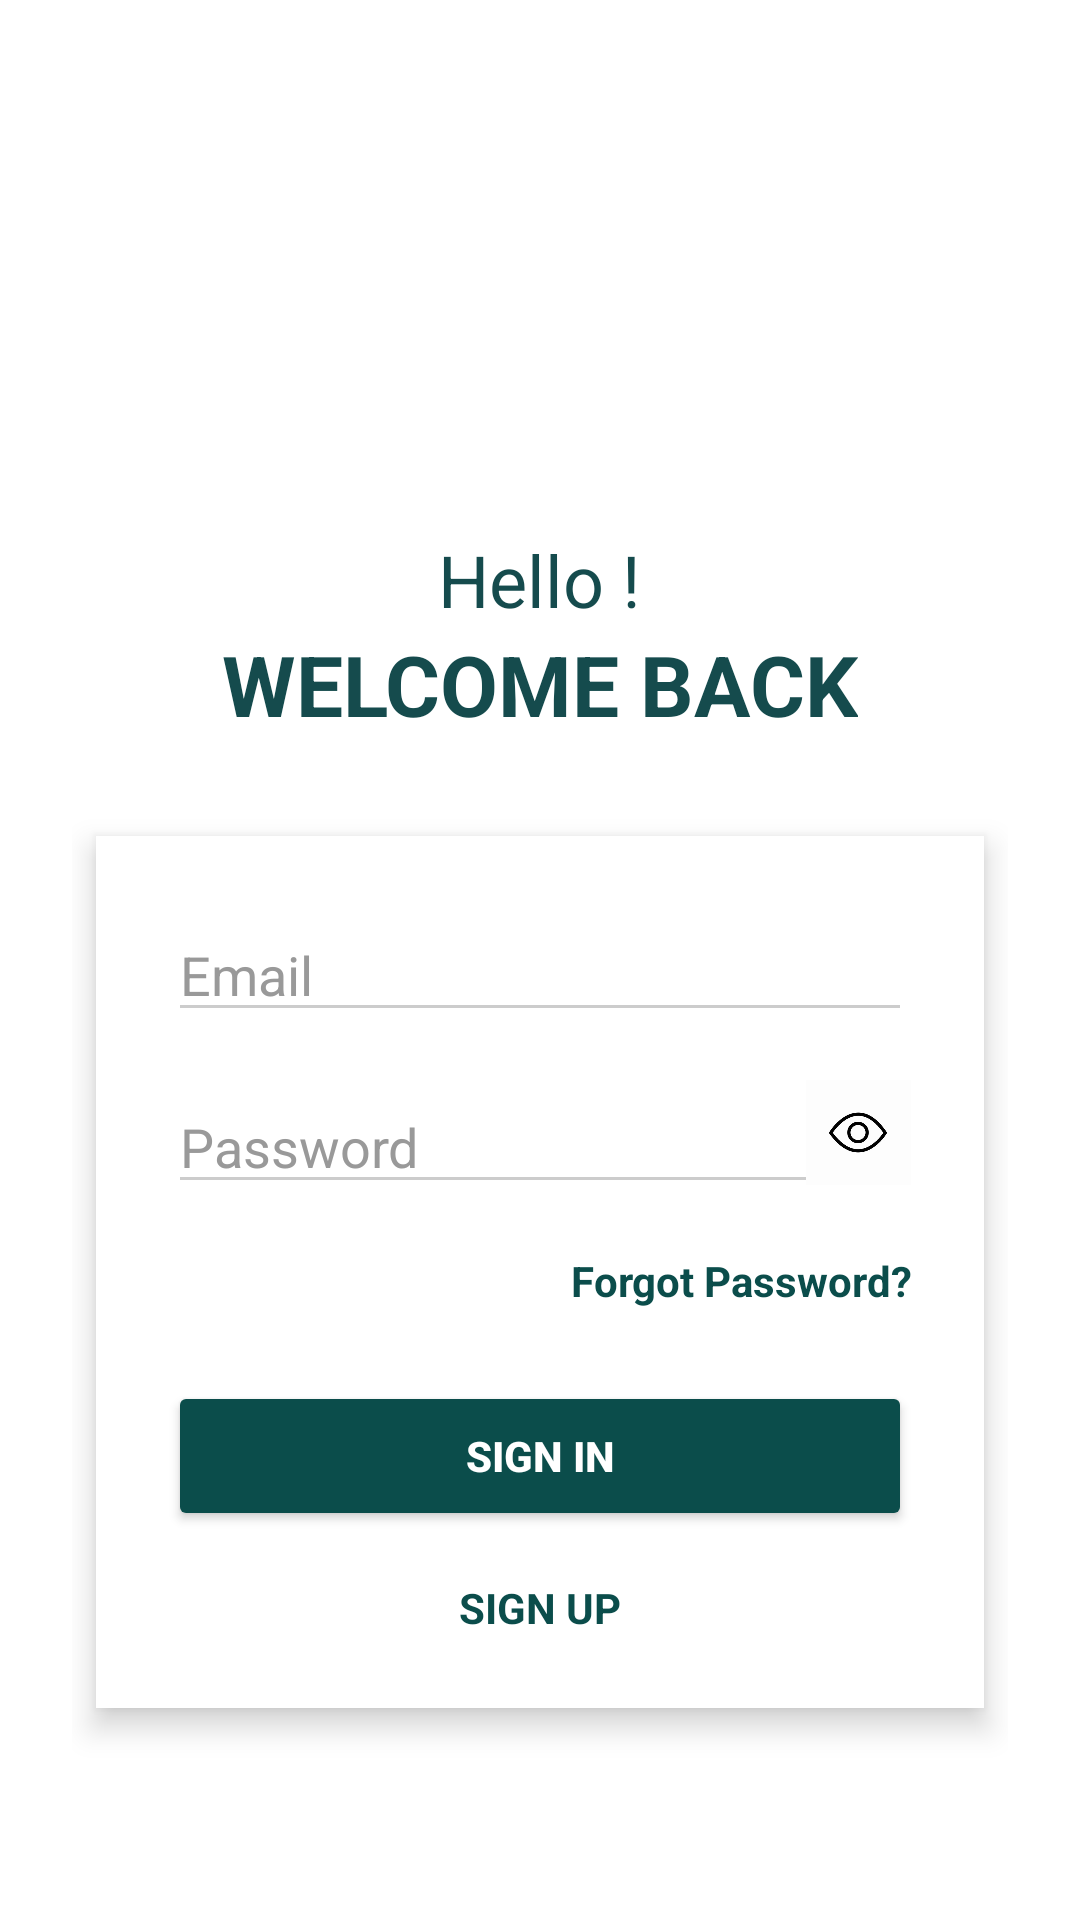

Named icons in this screenshot (1080×1920) and their centers, (x=x, y=y):
eye: (x=858, y=1132)
